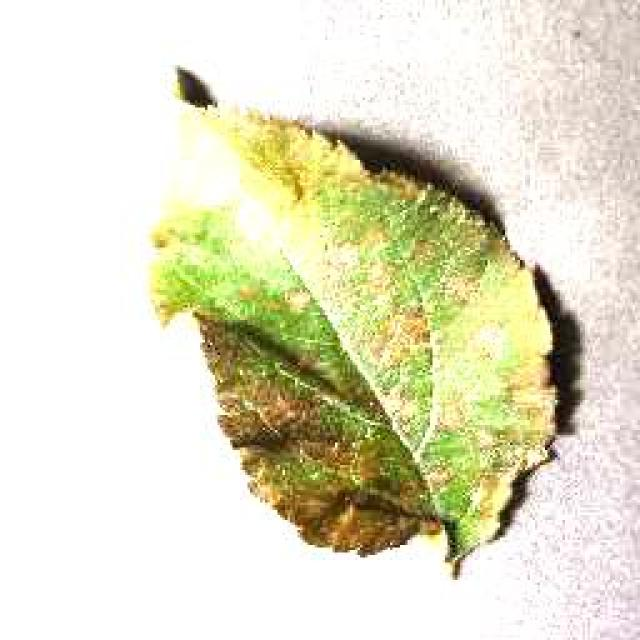apple rust disease: (145, 62, 567, 578)
